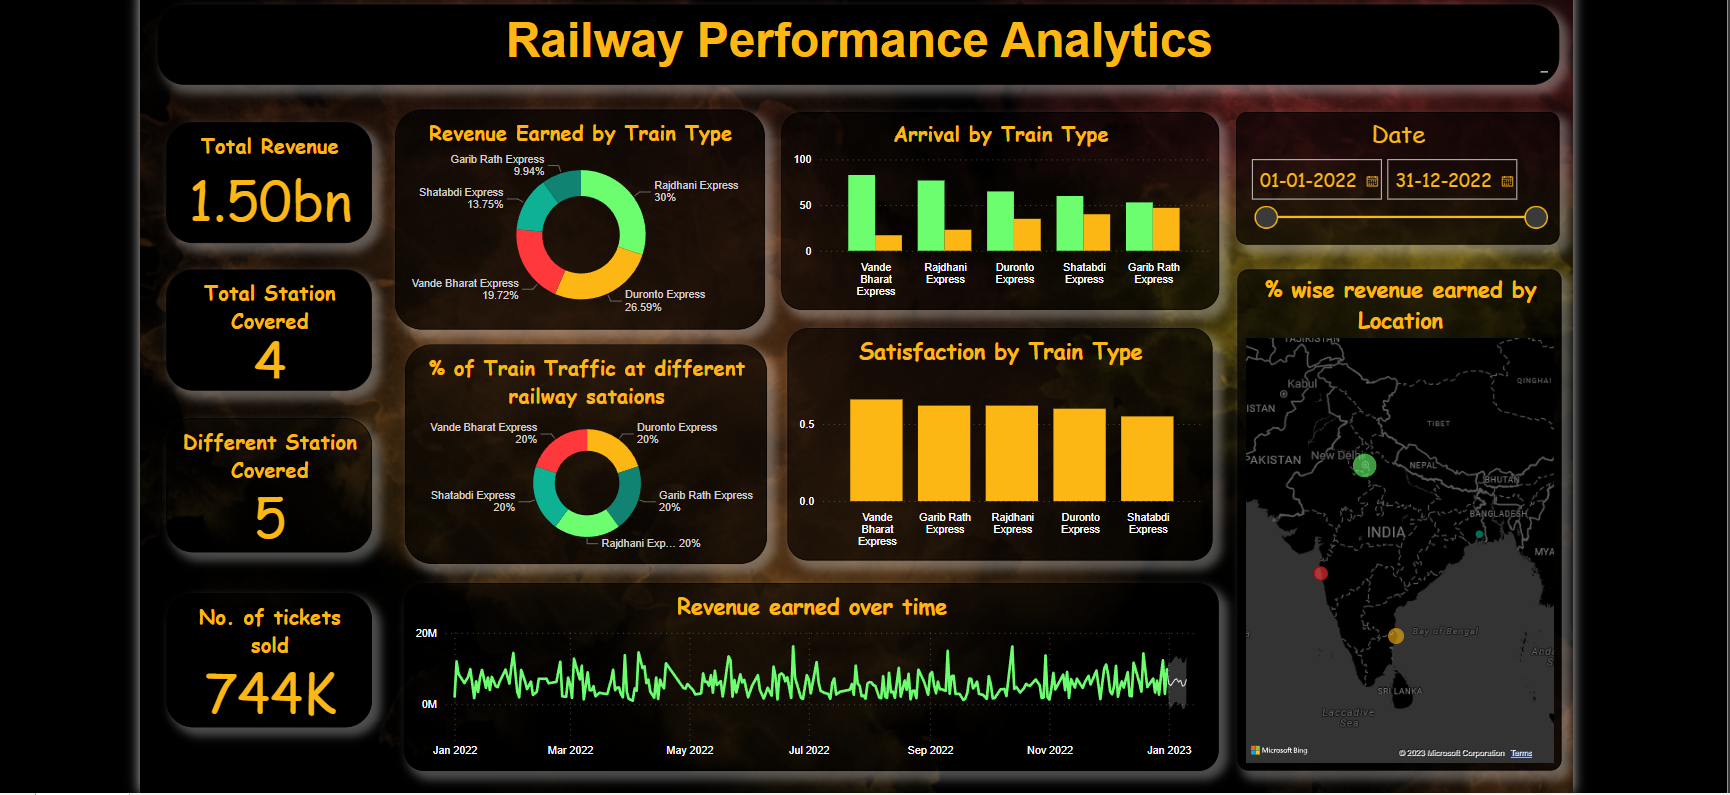

The dashboard page shown, as its layout file describes it:
{"tool":"powerbi","page":{"name":"Page 1","canvas":[1600,900],"ordinal":0},"visuals":[{"type":"textbox","title":"Railway Performance Analytics","box":[19,19.6,1565.2,89.3],"z":0},{"type":"card","title":"Total Revenue","fields":{"Values":["Measure.Total_Revenue"]},"box":[29.1,151.2,229.7,135.2],"z":1000},{"type":"card","title":"Total Station Covered","fields":{"Values":["Count(TicketSalesData.Station ID(Departure))"]},"box":[29.1,315.4,229.7,135.2],"z":2000},{"type":"card","title":"Different Station Covered","fields":{"Values":["Count(TicketSalesData.Train ID)"]},"box":[29.1,481.1,229.7,149.7],"z":3000},{"type":"card","title":"No. of tickets sold","fields":{"Values":["Sum(TicketSalesData.Number of Tickets sold)"]},"box":[29.1,677.3,229.7,149.7],"z":4000},{"type":"donutChart","title":"% of Train Traffic at different railway sataions","fields":{"Category":["Train_Lookup.Train Type"],"Y":["Measure.% of Train Traffic at different railway sataions"]},"box":[295.5,399.7,404.1,244.5],"z":5000},{"type":"clusteredColumnChart","title":"Arrival by Train Type","fields":{"Category":["Train_Lookup.Train Type"],"Y":["Measure.ON_time_arrival","Measure.Late_arrival"]},"box":[716.3,139.1,489,221.1],"z":6000},{"type":"donutChart","title":"Revenue Earned by Train Type","fields":{"Category":["Train_Lookup.Train Type"],"Y":["Measure.Total_Revenue"]},"box":[285.2,137.3,412.9,246],"z":7000},{"type":"clusteredColumnChart","title":"Satisfaction by Train Type","fields":{"Category":["Train_Lookup.Train Type"],"Y":["Measure.Statisfaction by train Type"]},"box":[722.1,381.3,474.4,259.2],"z":8000},{"type":"lineChart","title":"Revenue earned over time","fields":{"Y":["Measure.Total_Revenue"],"Category":["Datelookup.Date.Variation.Date Hierarchy.Year","Datelookup.Date.Variation.Date Hierarchy.Quarter","Datelookup.Date.Variation.Date Hierarchy.Month","Datelookup.Date.Variation.Date Hierarchy.Day"]},"box":[295.1,665.7,909.9,209.3],"z":9000},{"type":"map","title":"% wise revenue earned by Location","fields":{"Size":["Measure.% wise revenue earned"],"Category":["Station_Lookup.Location"],"Series":["Station_Lookup.Location"]},"box":[1225.3,315.4,361.9,559.6],"z":10000},{"type":"slicer","title":"Date","fields":{"Values":["Datelookup.Date"]},"box":[1223.8,139.5,360.5,148.3],"z":11000}]}

Visuals, with their boxes on the page's 1600x900 design canvas (x1, y1, x2, y2). These are canvas units, not pixel positions in the 1730x795 screenshot, which may show the page scaled, cropped or inside an application window:
"Railway Performance Analytics" textbox: 19 20 1584 109
"Total Revenue" card: 29 151 259 286
"Total Station Covered" card: 29 315 259 451
"Different Station Covered" card: 29 481 259 631
"No. of tickets sold" card: 29 677 259 827
"% of Train Traffic at different railway sataions" donutChart: 296 400 700 644
"Arrival by Train Type" clusteredColumnChart: 716 139 1205 360
"Revenue Earned by Train Type" donutChart: 285 137 698 383
"Satisfaction by Train Type" clusteredColumnChart: 722 381 1196 640
"Revenue earned over time" lineChart: 295 666 1205 875
"% wise revenue earned by Location" map: 1225 315 1587 875
"Date" slicer: 1224 140 1584 288
